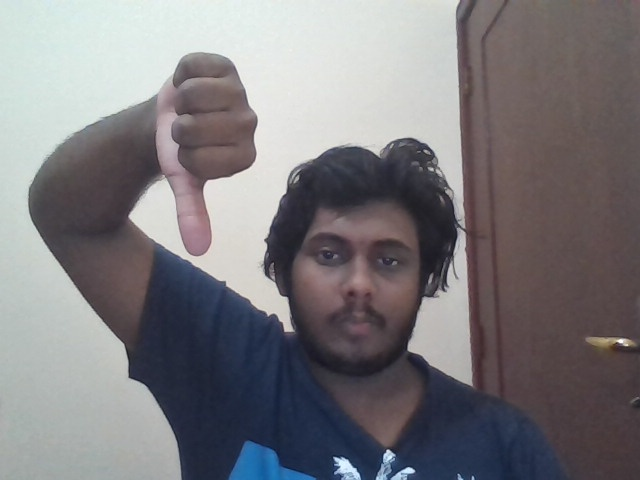thumbsdown: (156, 50, 258, 256)
